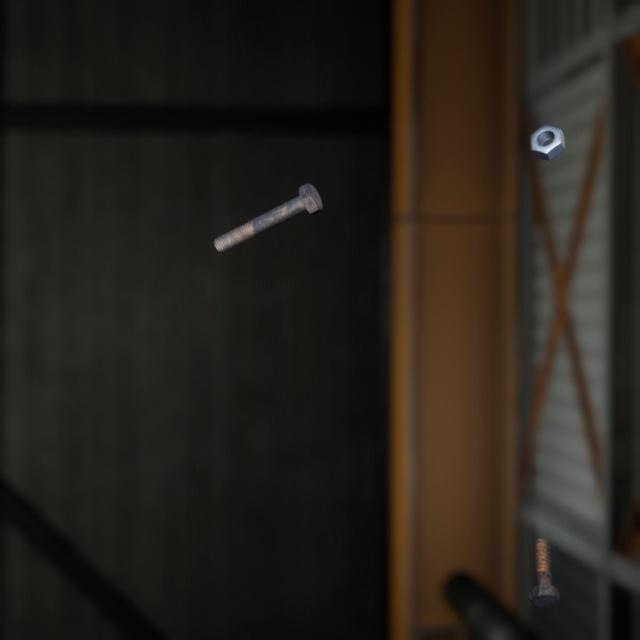bolt: (209, 163, 327, 241), (524, 511, 563, 589)
nut: (526, 107, 569, 152)
